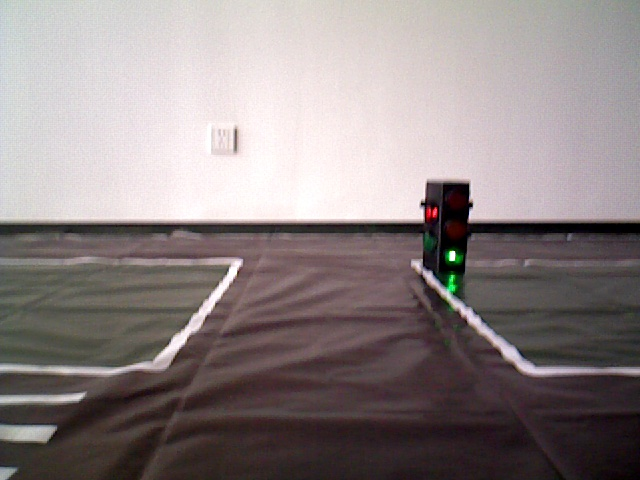green: (425, 178, 467, 273)
